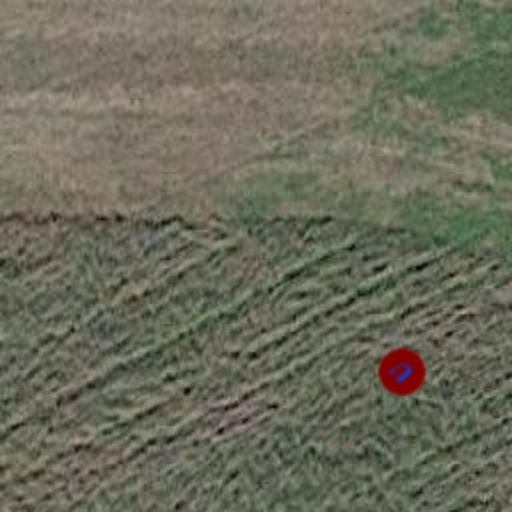circle: (368, 338, 436, 406)
